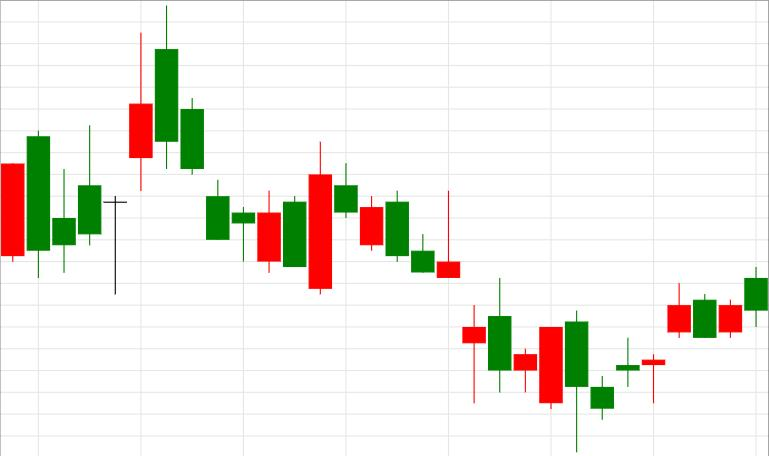bullish_engulfing_rise: (154, 4, 332, 295)
